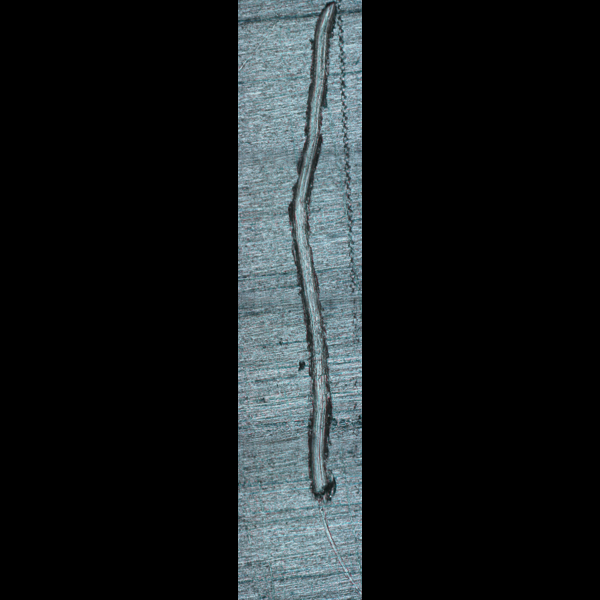d: (285, 0, 348, 511)
